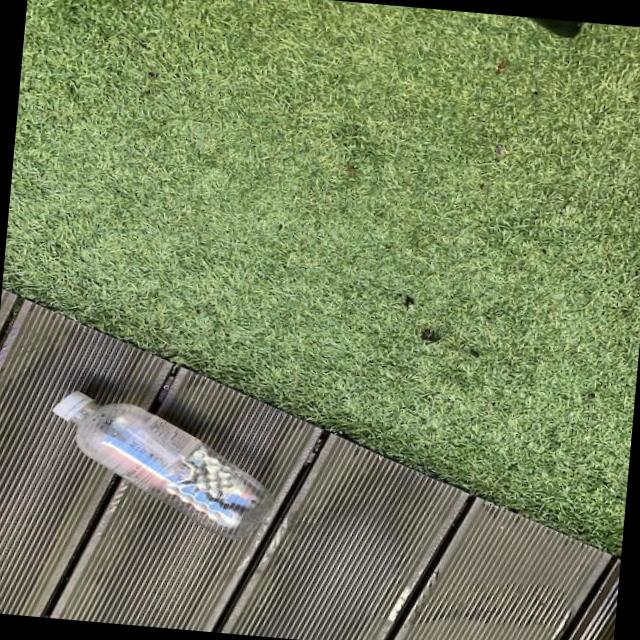plastic_bottle: (42, 388, 283, 543)
